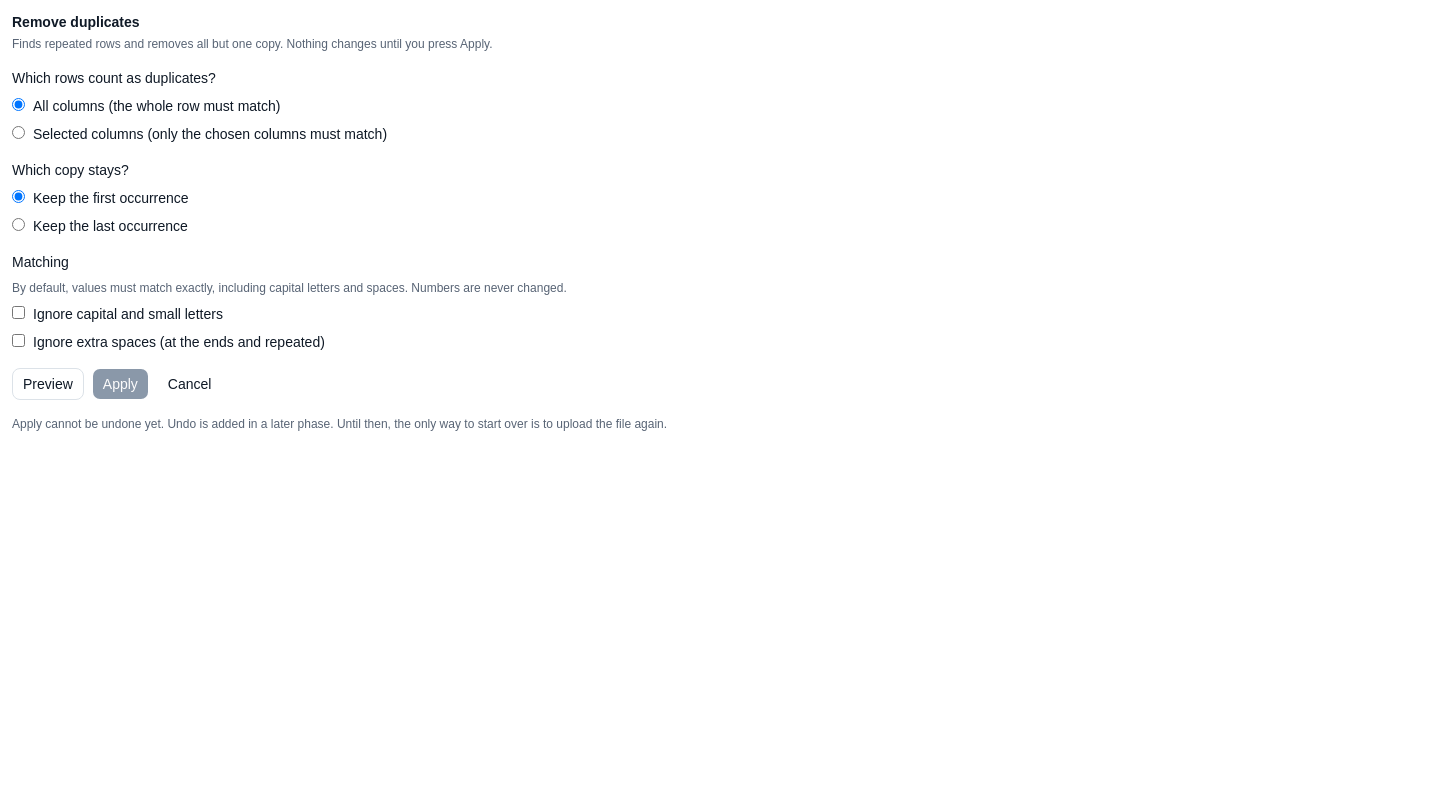
it: DuplicatesPanel: settings › selects and clears all columns
Click the radio button labelled "Selected columns (only the chosen columns must match)" at (18, 132), box [12, 126, 25, 139]
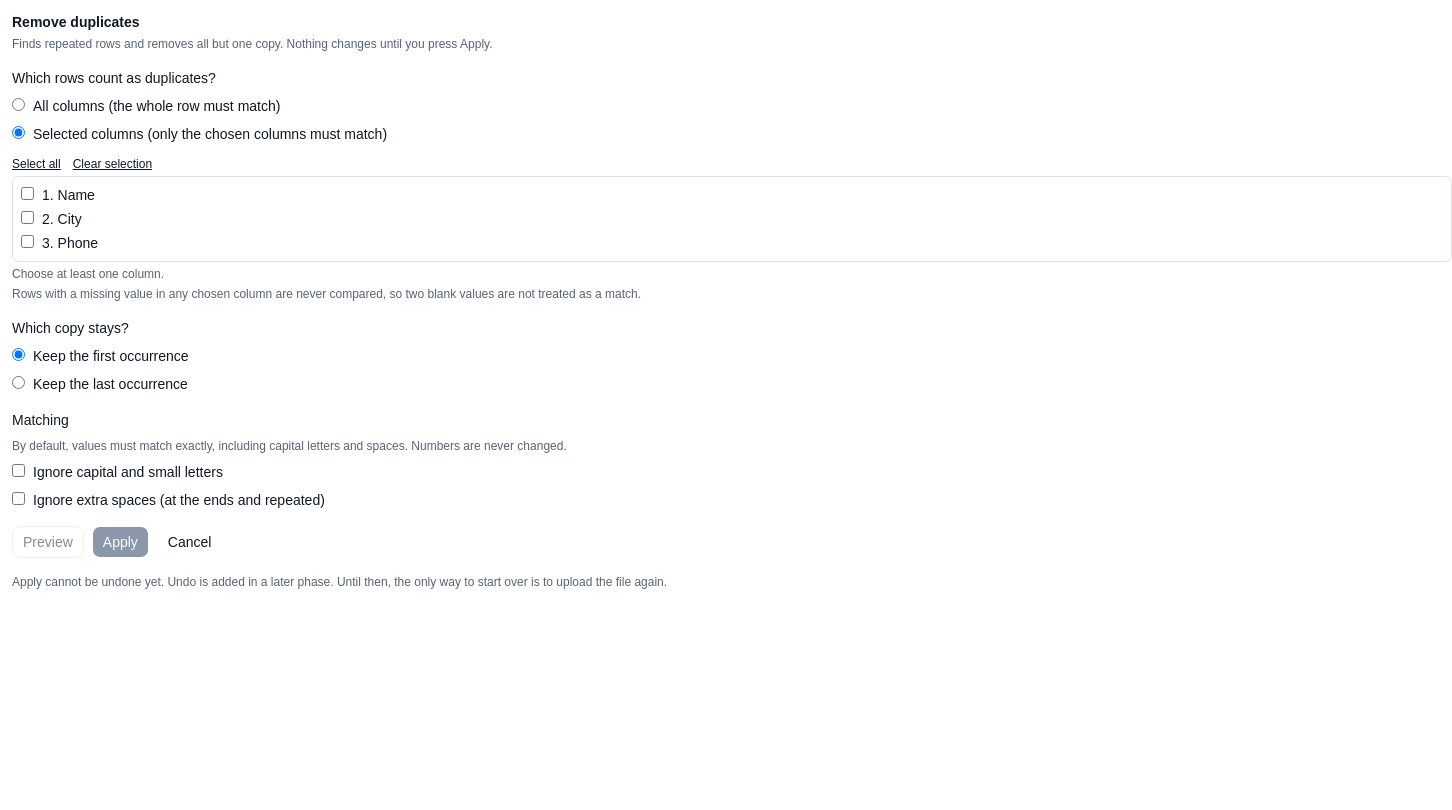
Click the button "Select all" at (36, 164), box [12, 156, 61, 172]
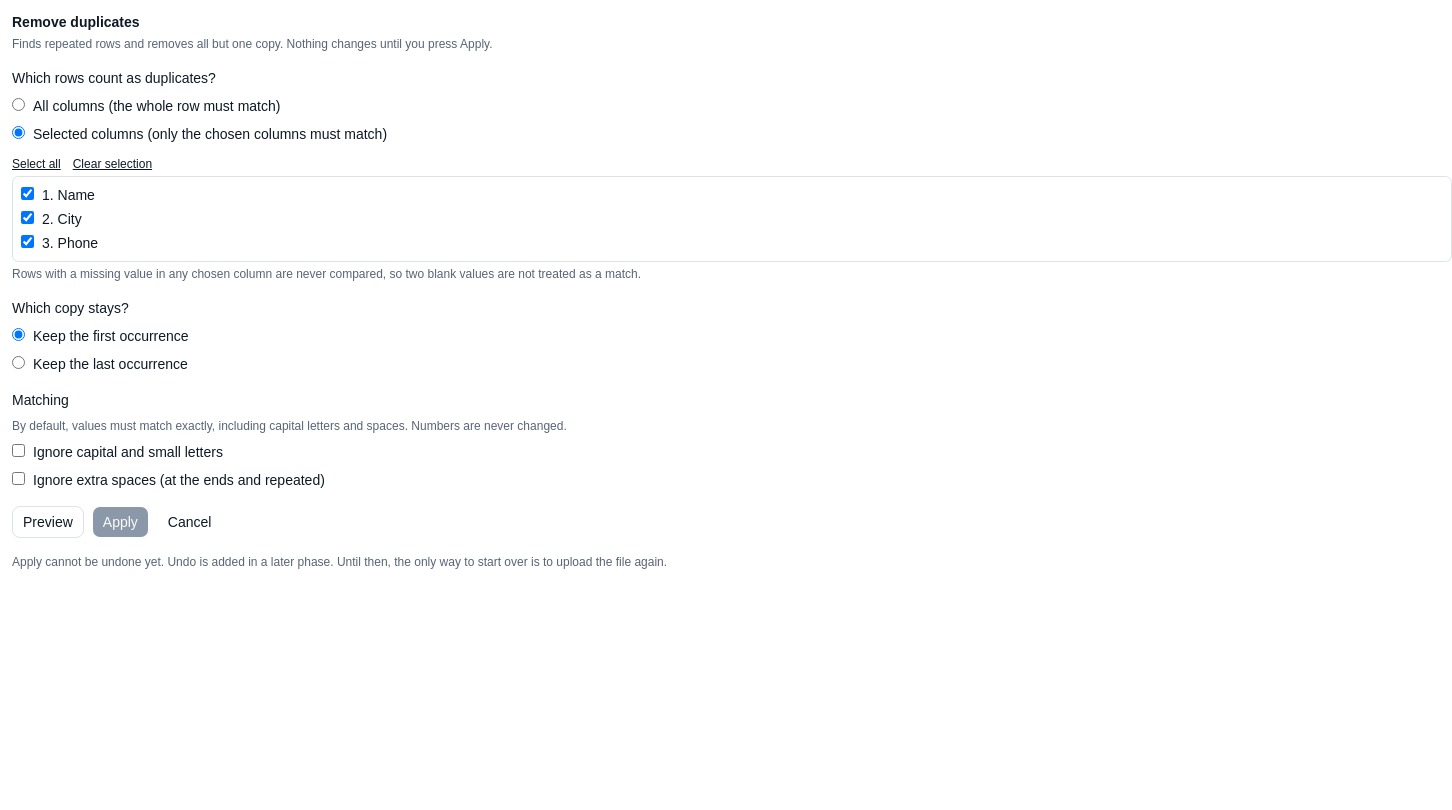
Check: the number of checkboxes labelled "1. Name" is 3, box [21, 187, 34, 200]; [21, 211, 34, 224]; [21, 235, 34, 248]
Check: the checkbox labelled "1. Name" is checked, box [21, 187, 34, 200]
Check: the checkbox labelled "2. City" is checked, box [21, 211, 34, 224]
Click the button "Clear selection" at (112, 164), box [73, 156, 152, 172]
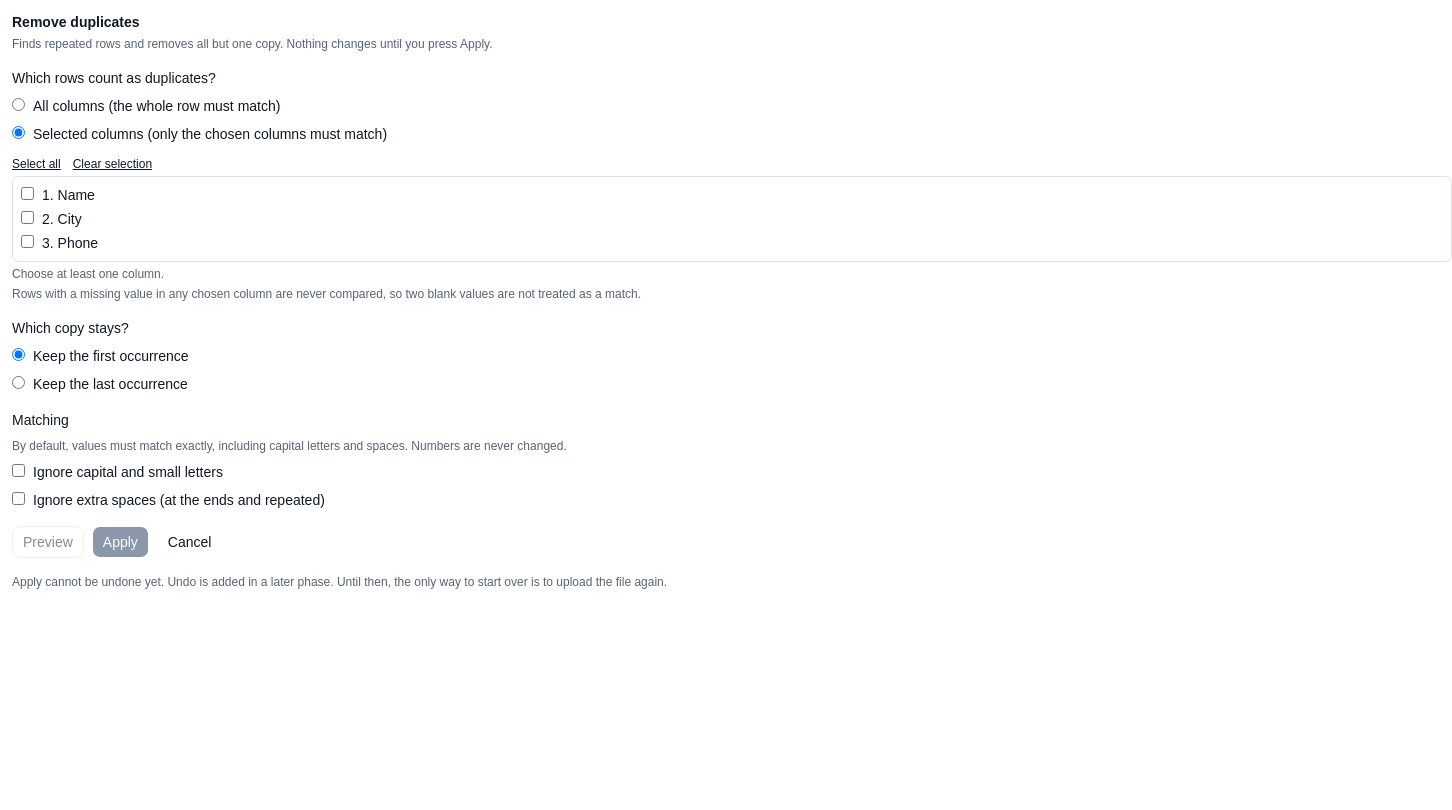
Check: the checkbox labelled "1. Name" is not checked, box [21, 187, 34, 200]
Check: the checkbox labelled "2. City" is not checked, box [21, 211, 34, 224]
Check: the checkbox labelled "3. Phone" is not checked, box [21, 235, 34, 248]
